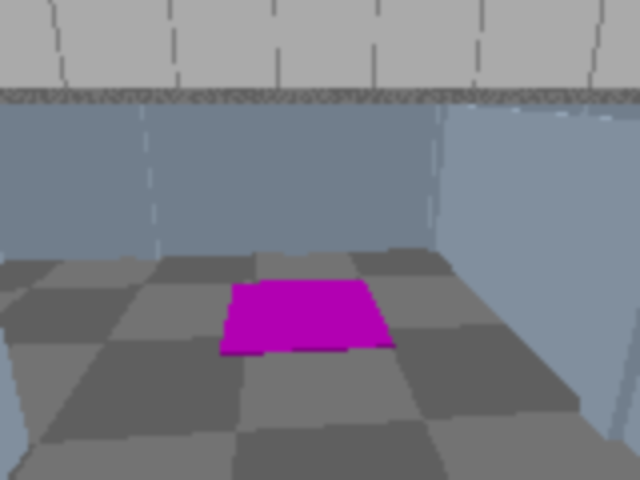goal_zone: (219, 278, 395, 356)
